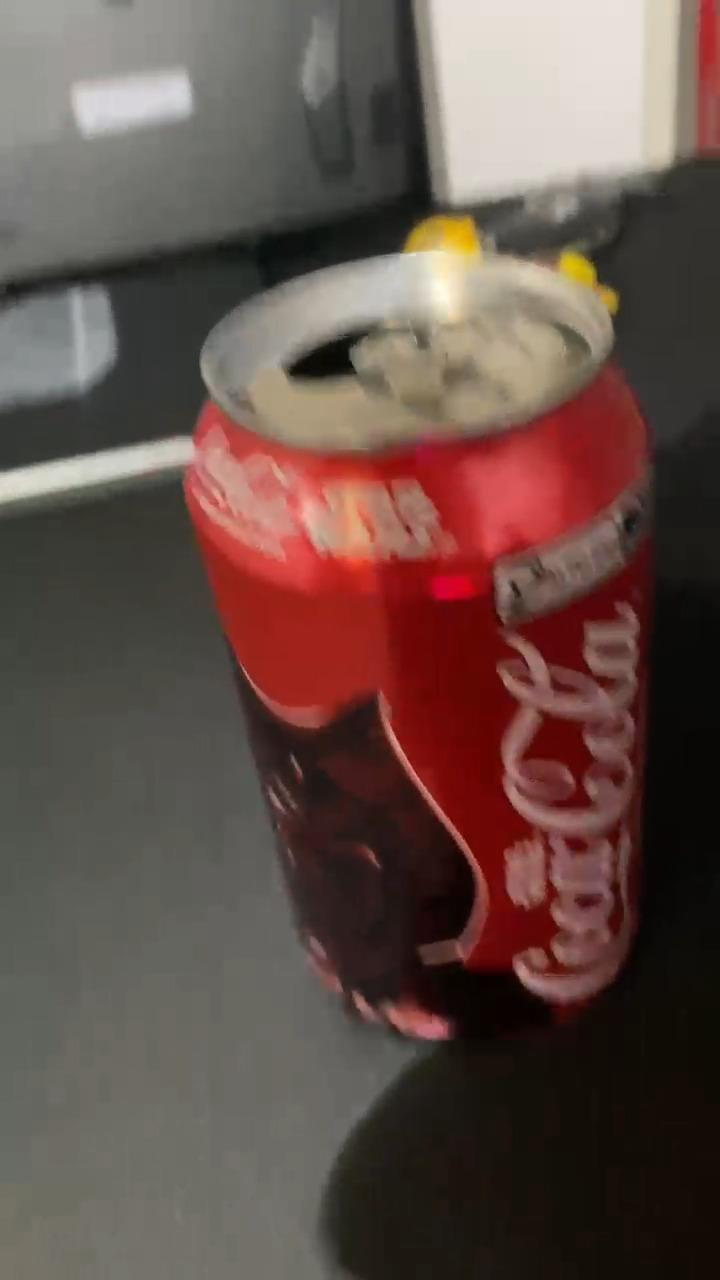coke: (181, 260, 660, 1042)
